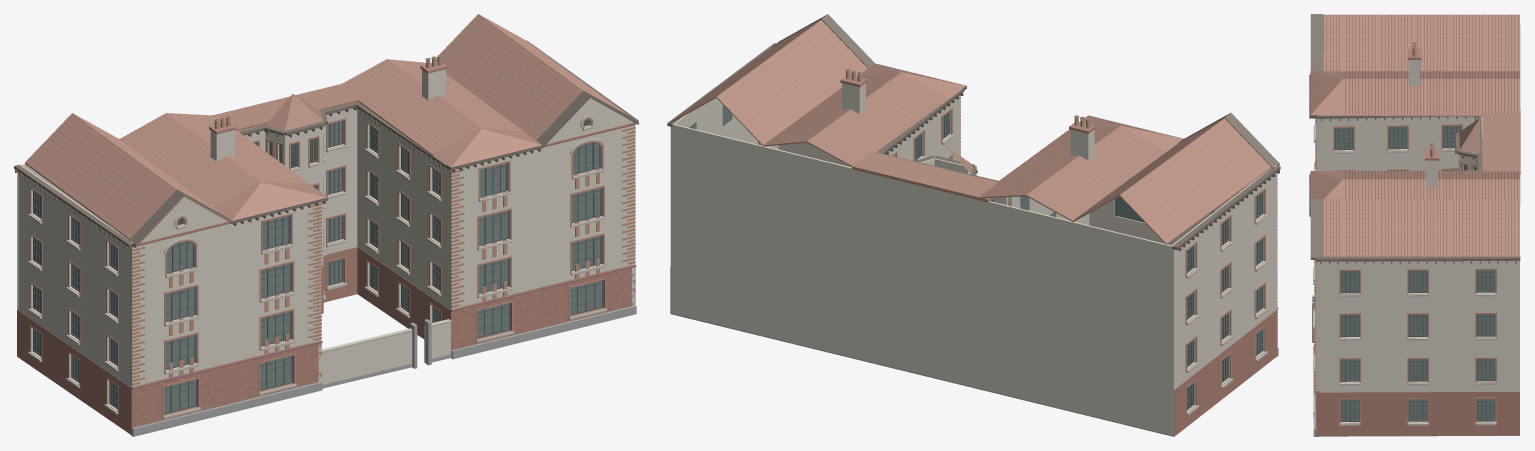
Rendered from xuhui-clements-apartments-west-front-raw.glb.
The picture shows the model from 3 angles, left to right: view 1: azimuth 30°, elevation 25°; view 2: azimuth 150°, elevation 25°; view 3: azimuth 270°, elevation 25°; orthographic projection. The views are drawn at different scales.
Visible parts, largest first — view 1: 克莱门公寓（复兴中路弄口西侧前楼）; view 2: 克莱门公寓（复兴中路弄口西侧前楼）; view 3: 克莱门公寓（复兴中路弄口西侧前楼）.
Boxes of the visible parts, x1,y1,x2,y2 form: 克莱门公寓（复兴中路弄口西侧前楼）: [14, 14, 638, 436]; 克莱门公寓（复兴中路弄口西侧前楼）: [667, 14, 1280, 436]; 克莱门公寓（复兴中路弄口西侧前楼）: [1309, 14, 1520, 436].
Size of the model in its own units: 38.69 by 17.45 by 14.67.
